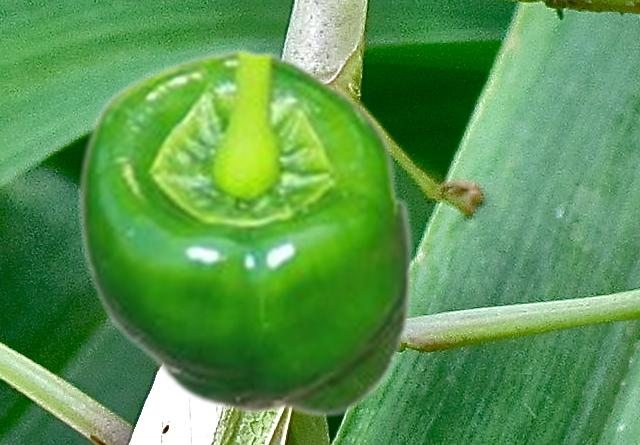bell_pepper: (75, 46, 414, 417)
